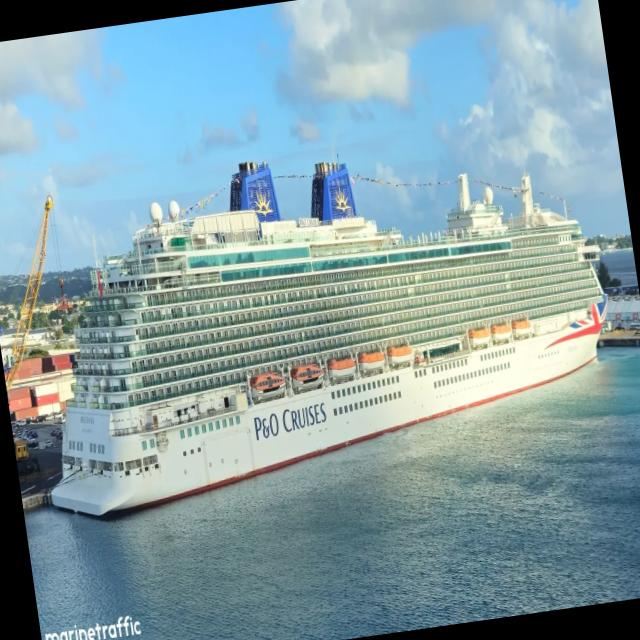Cruise: (52, 161, 607, 515)
